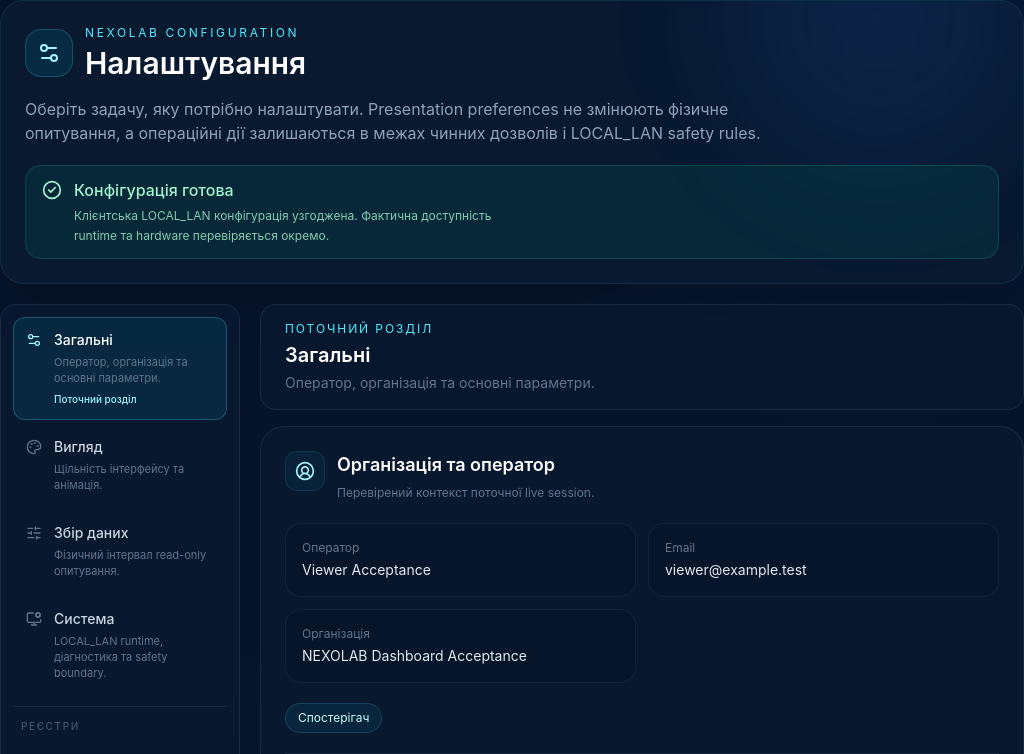
Test: SettingsWorkspace › keeps data collection in its dedicated section
Expected: the element "Cadence fixture" is not shown
Click the button "Збір даних Фізичний інтервал read-only опитування.": (120, 551) [13,510,227,592]
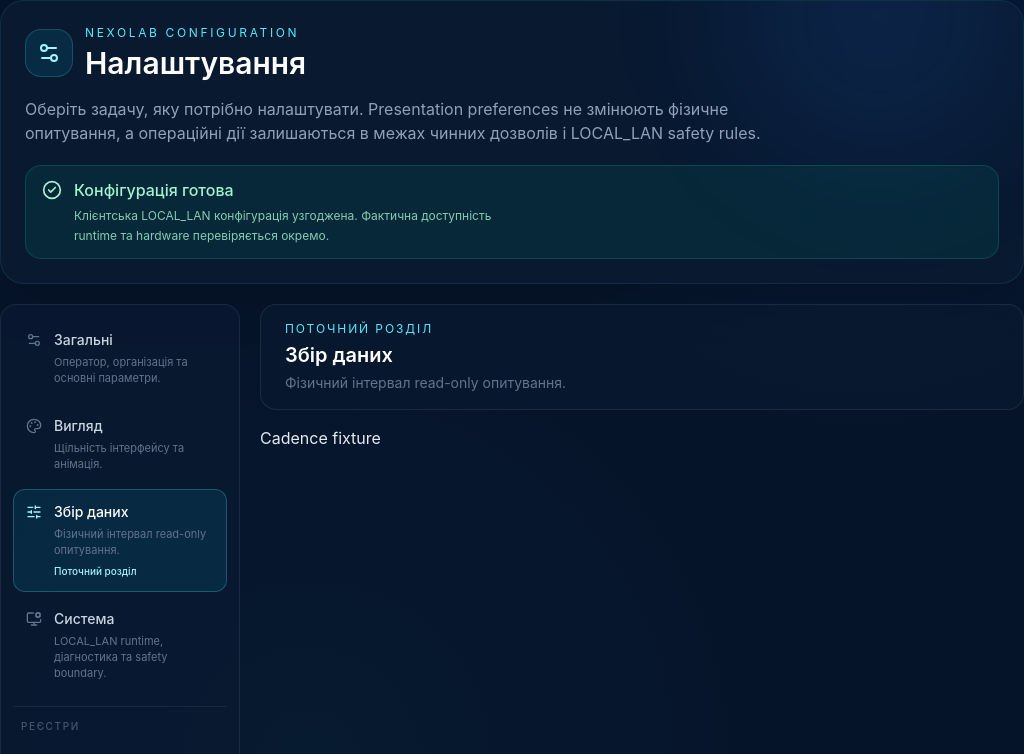
Now the text "Cadence fixture" is shown, box [260,428,381,448]
